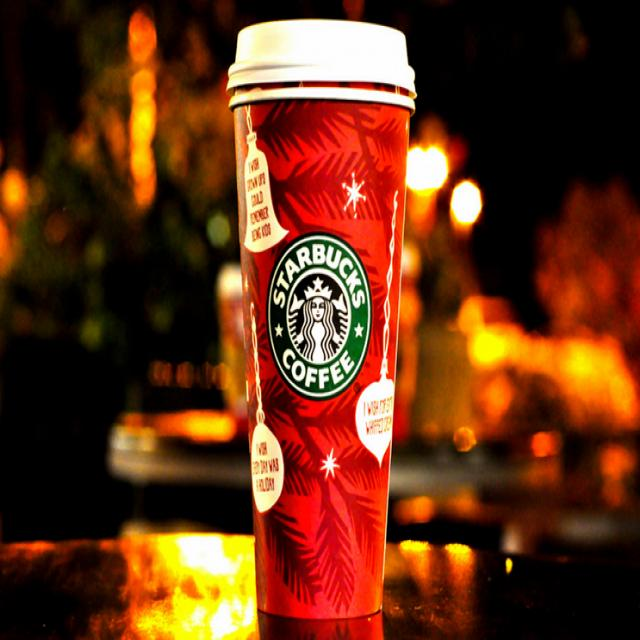starbucks: (258, 236, 376, 407)
